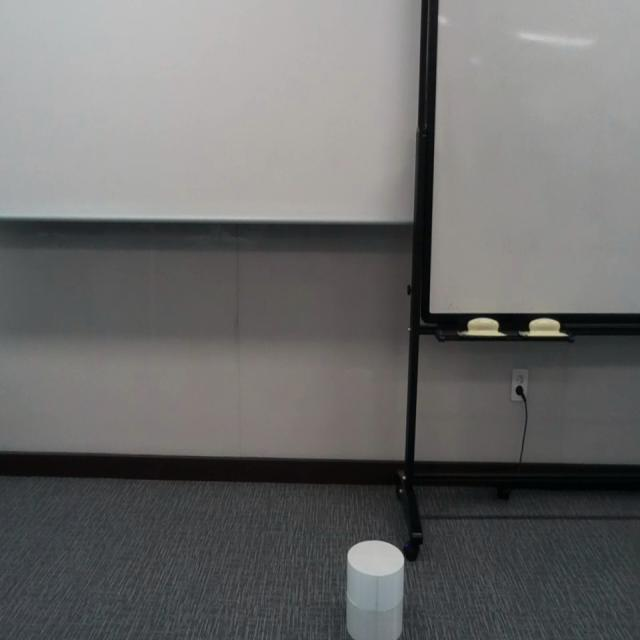cylinder: (346, 539, 404, 639)
